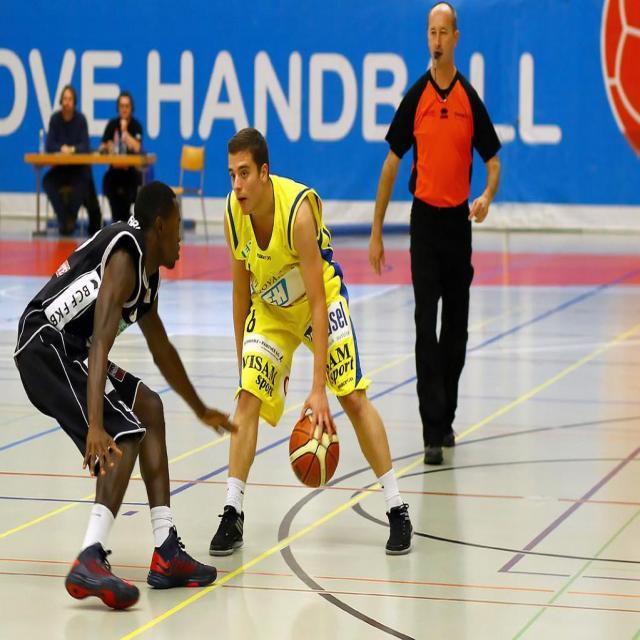rim: (290, 413, 340, 491)
